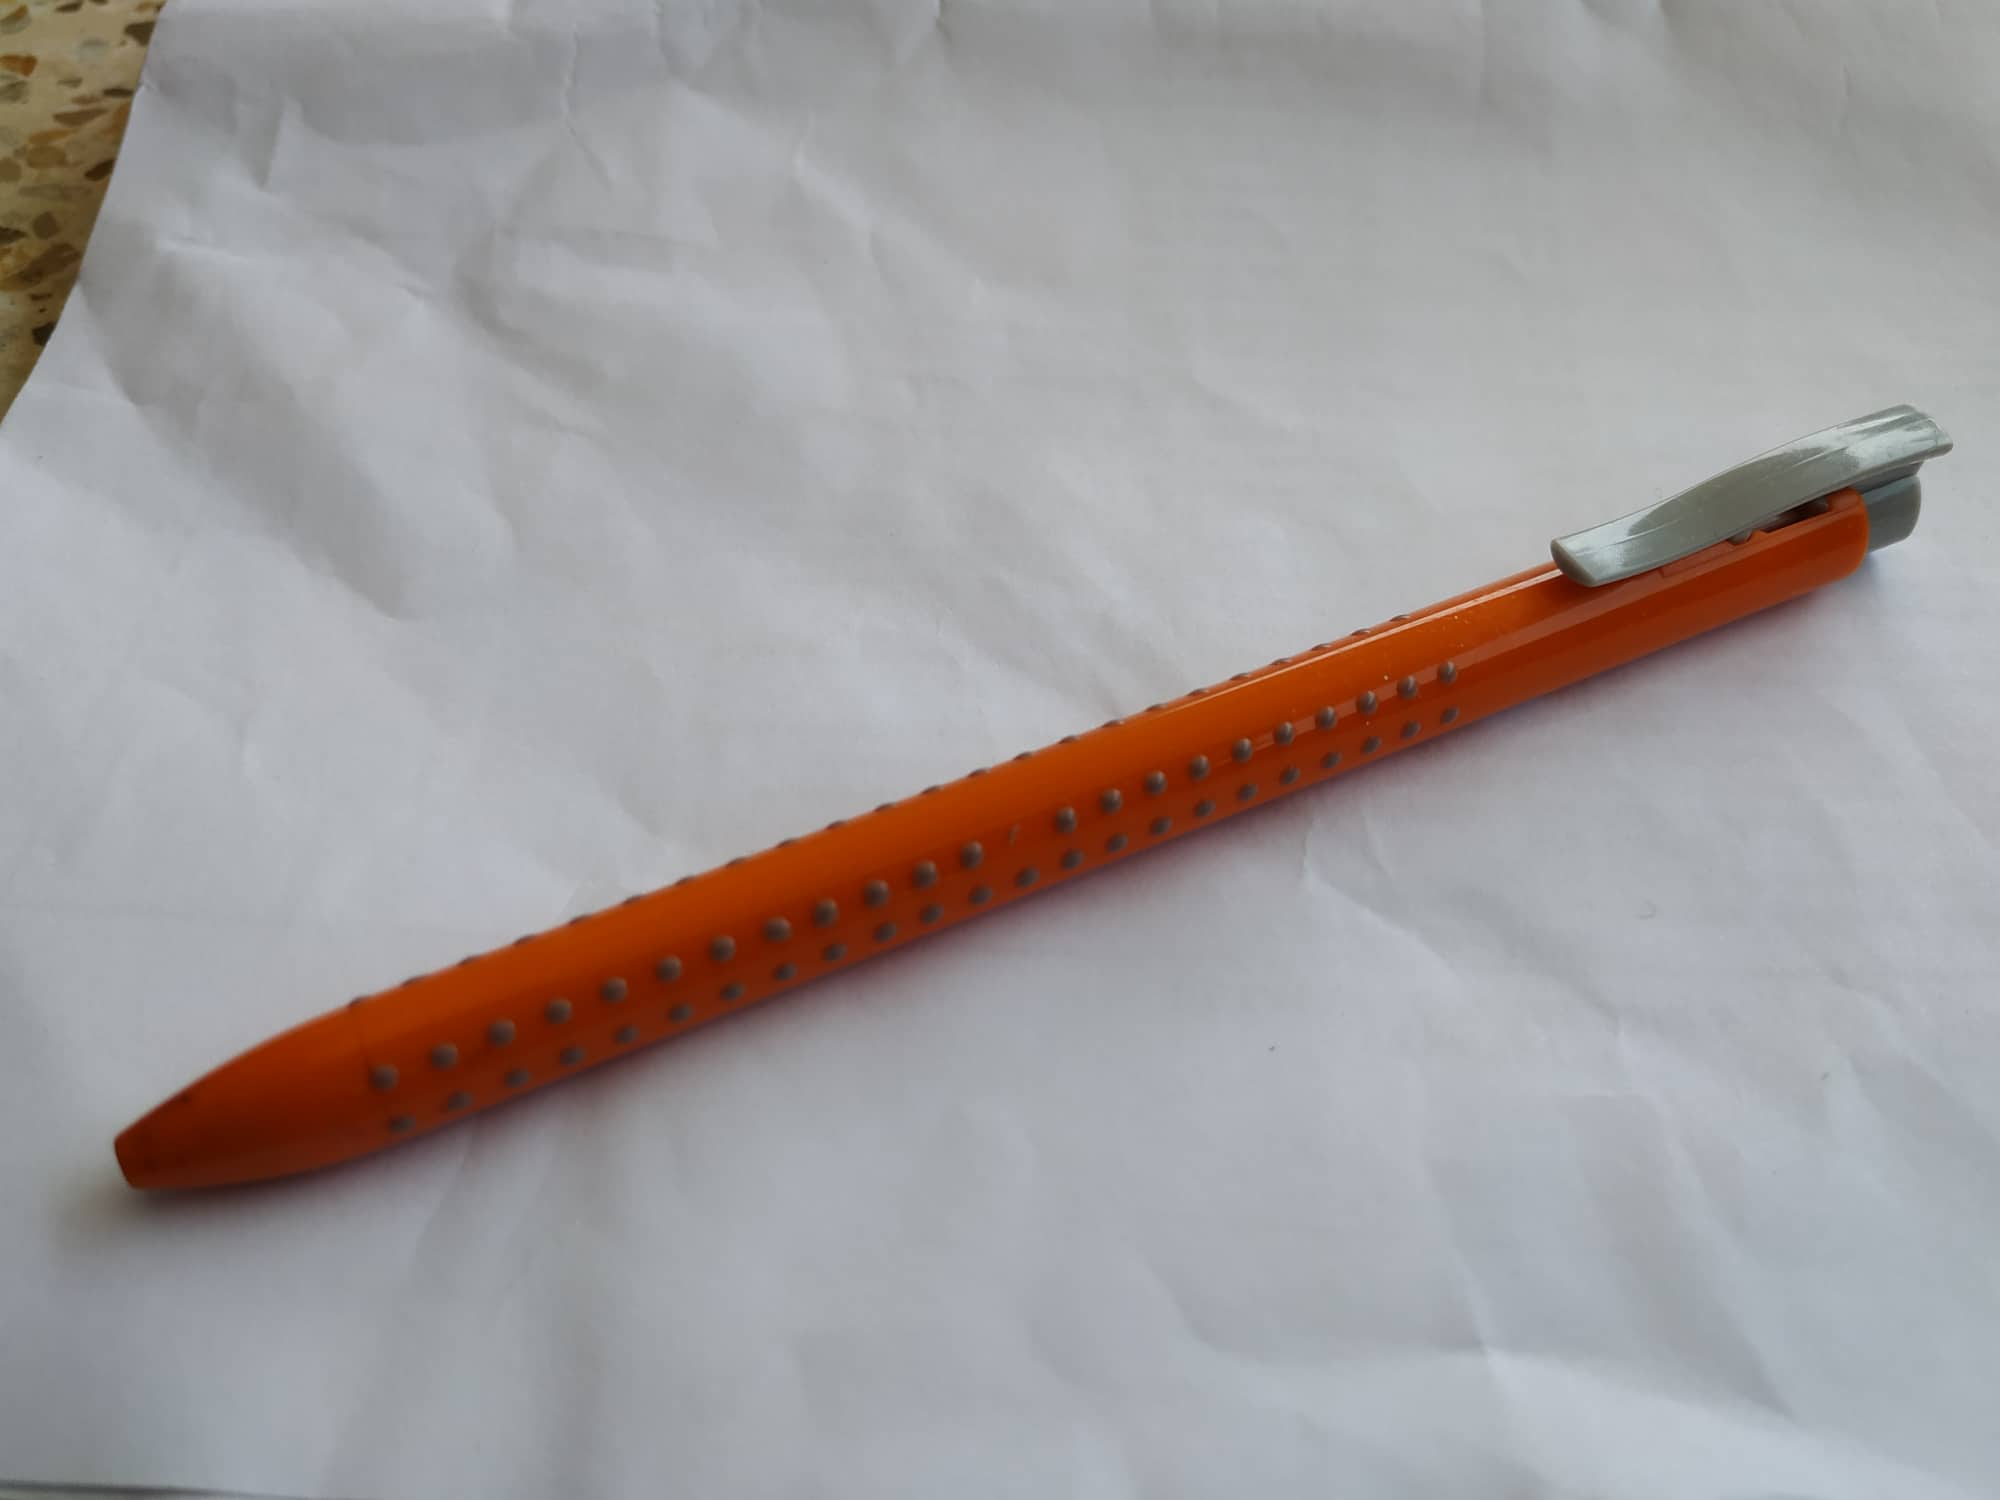qillqana: (77, 399, 1965, 1232)
